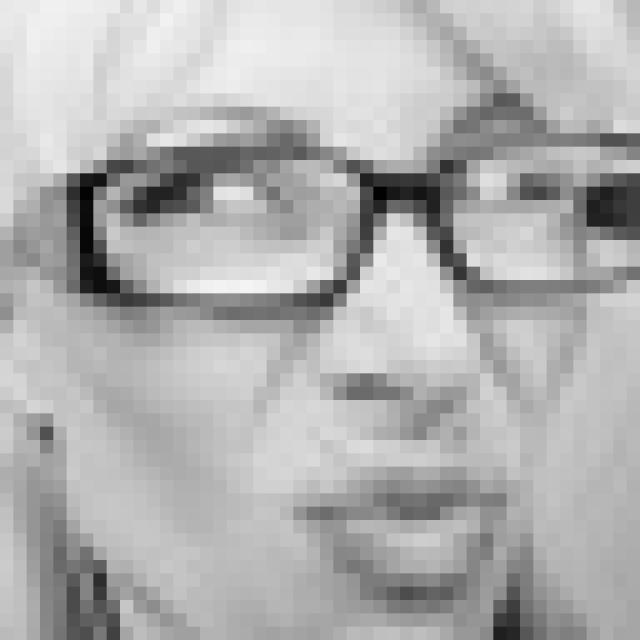disgust: (124, 91, 558, 603)
